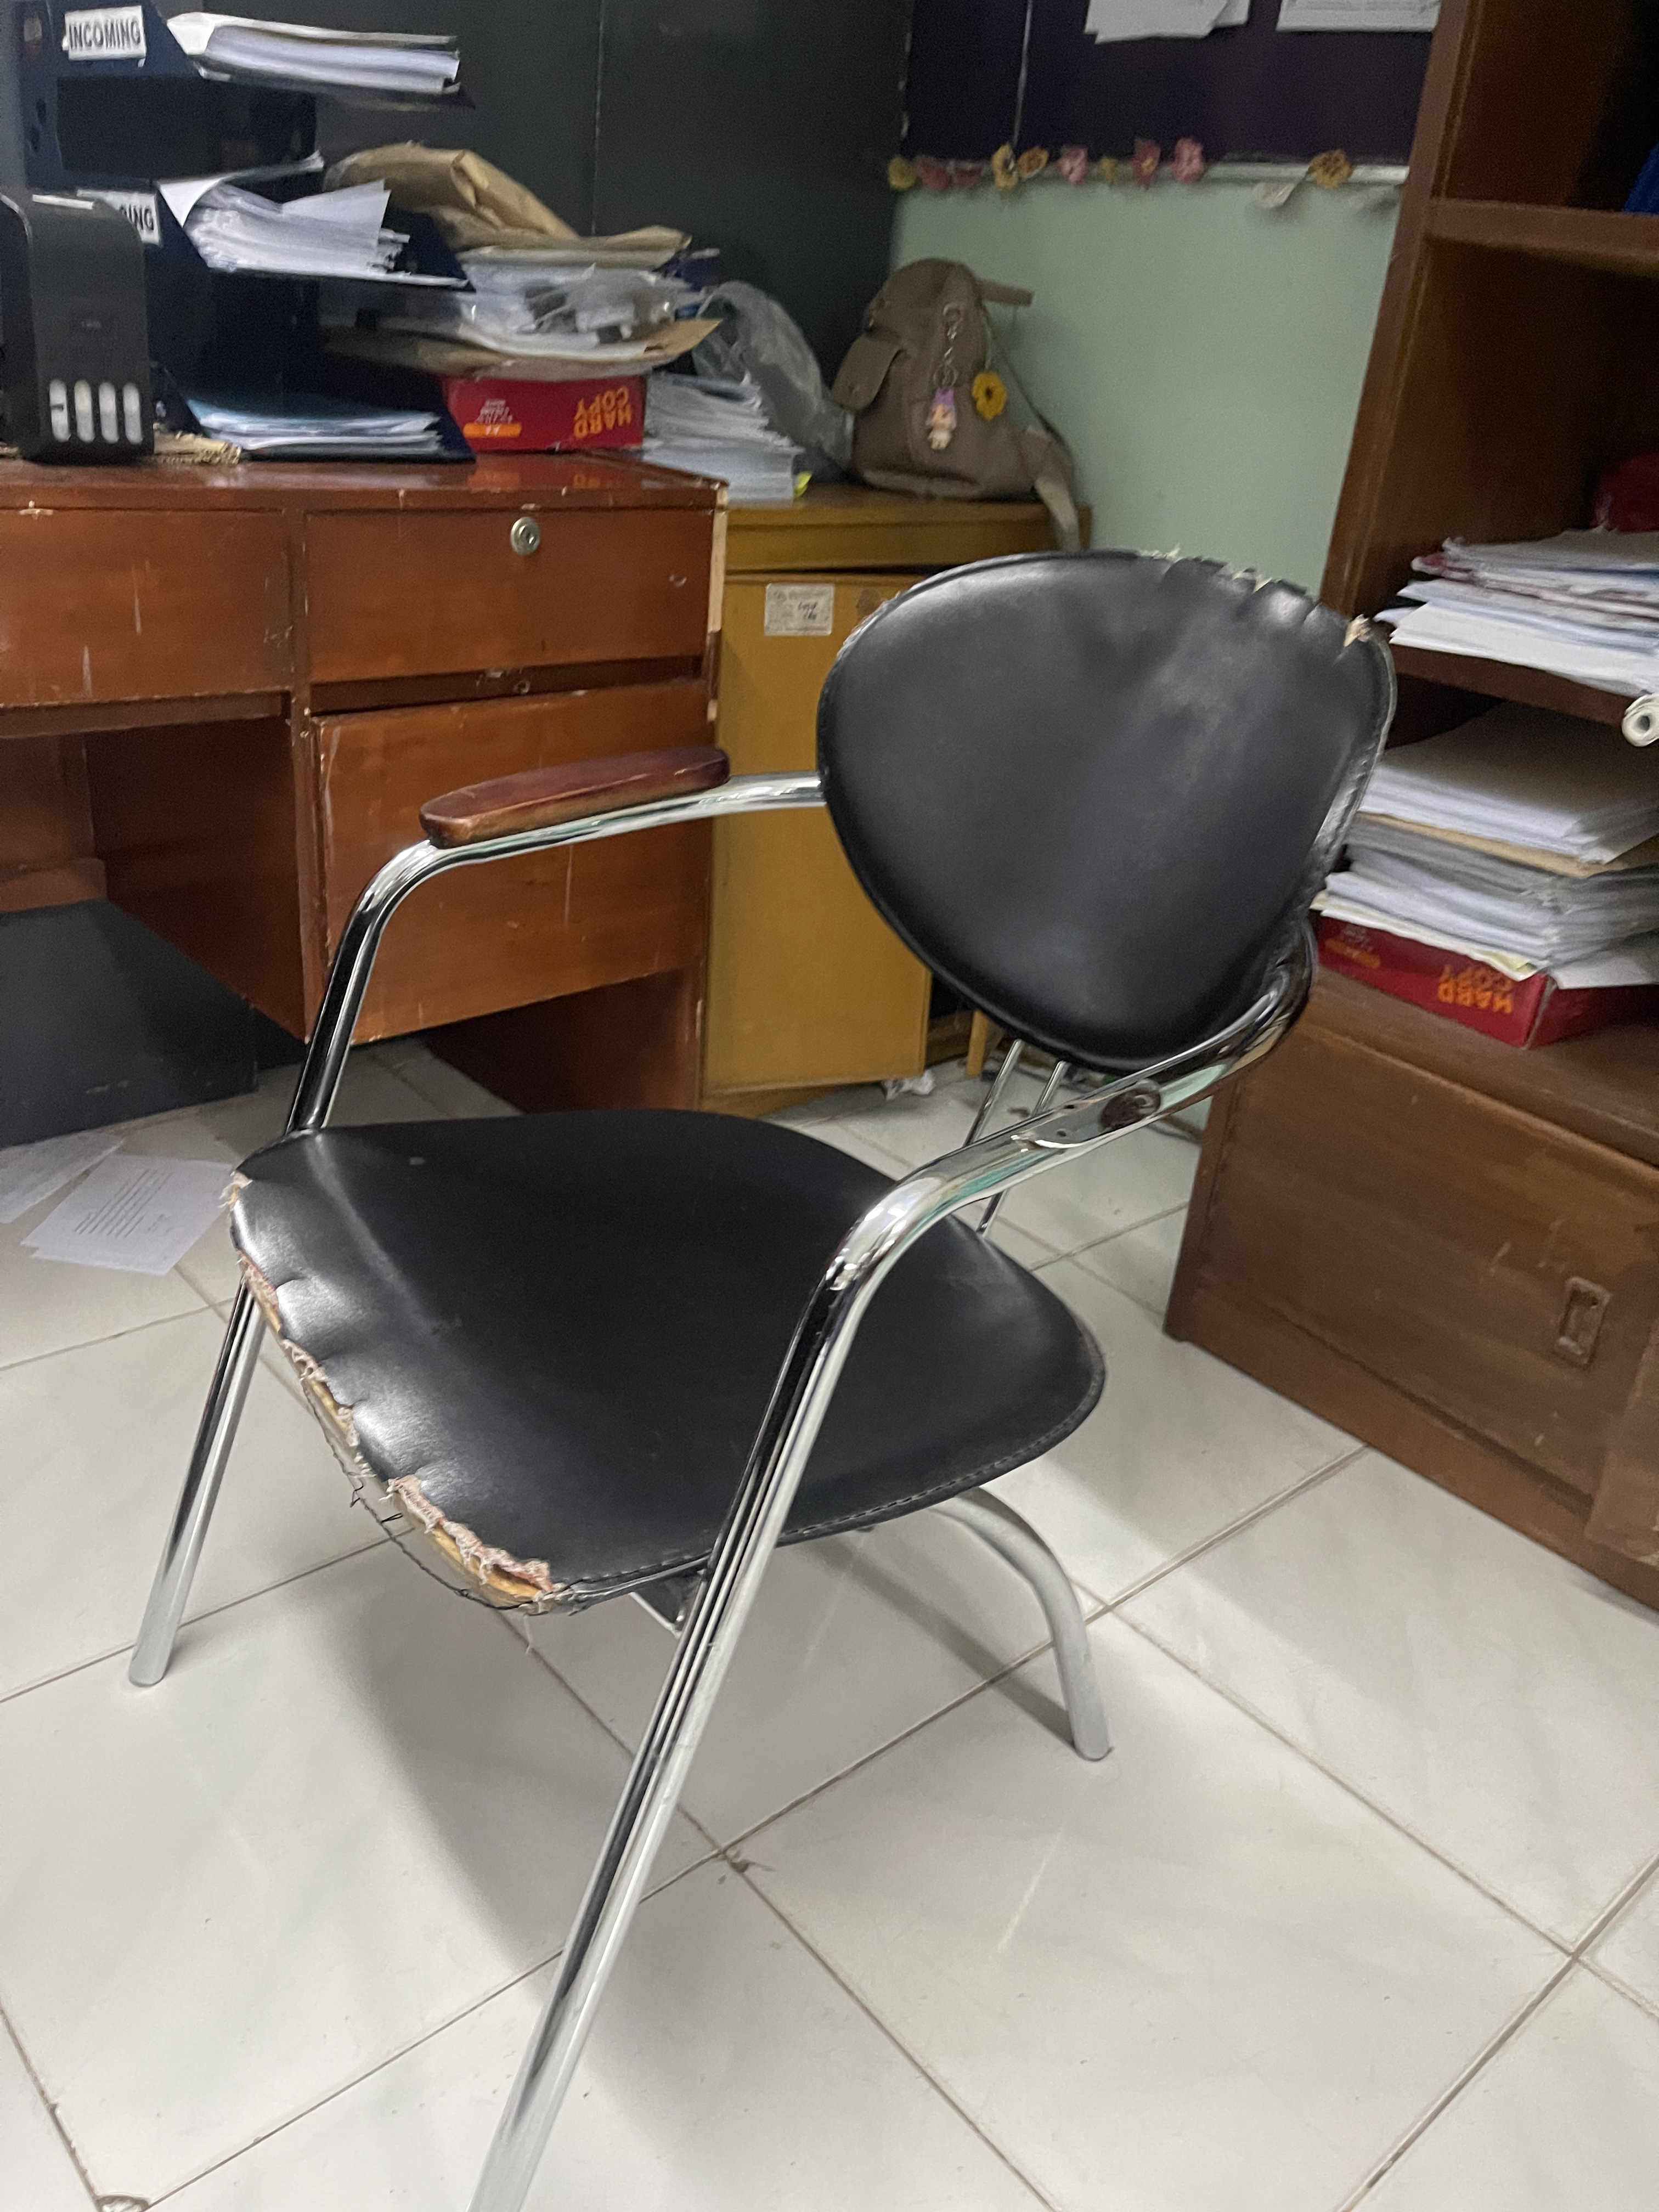chair1: (132, 538, 1406, 2212)
